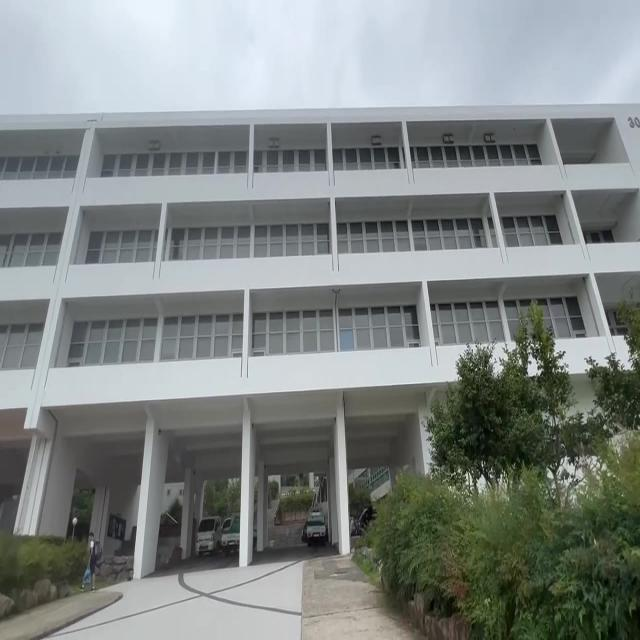building: (14, 87, 438, 406)
